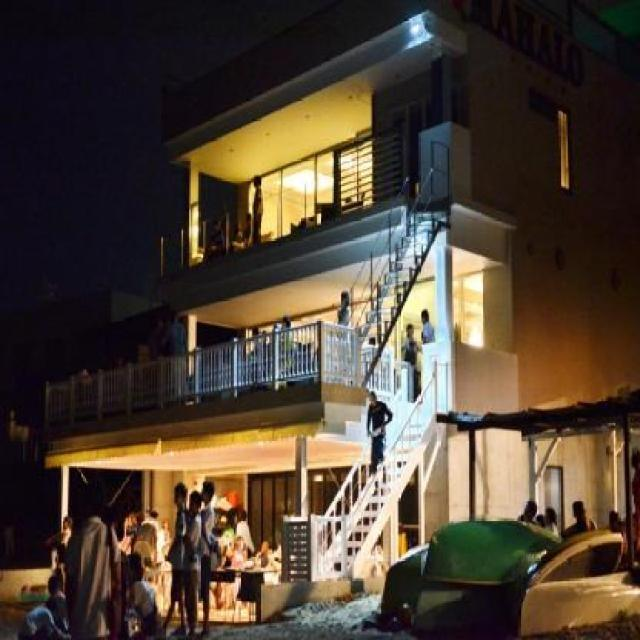stair: (312, 410, 437, 578), (342, 210, 449, 388)
